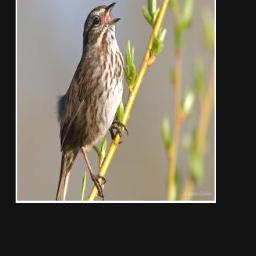Sparrow: (56, 2, 129, 201)
